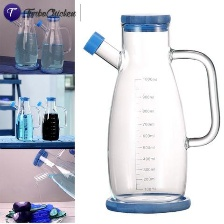bottle: (81, 5, 223, 209), (30, 148, 76, 201), (7, 8, 41, 71), (36, 13, 65, 73), (34, 91, 67, 143), (9, 94, 32, 143)
